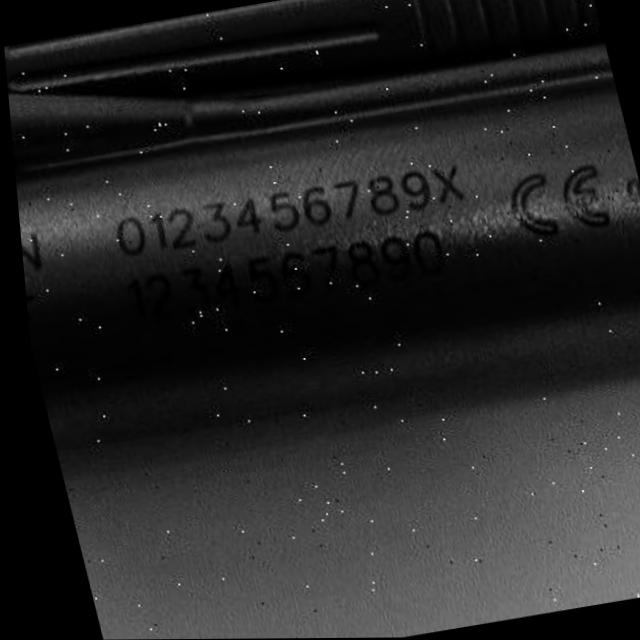ocr: (84, 143, 501, 361)
